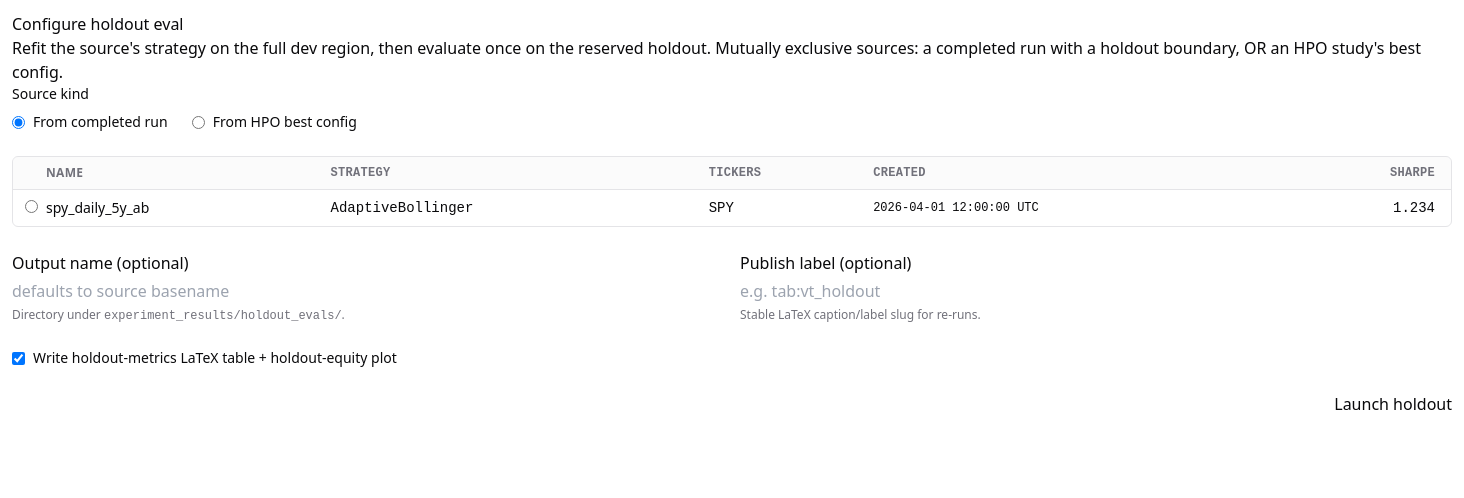
it: ConfigureHoldoutPage › blocks submit when no source is selected
Expected: the text "spy_daily_5y_ab" is shown, [45,190,330,226]
Click the button "Launch holdout": (1393, 404) [1334,392,1452,416]
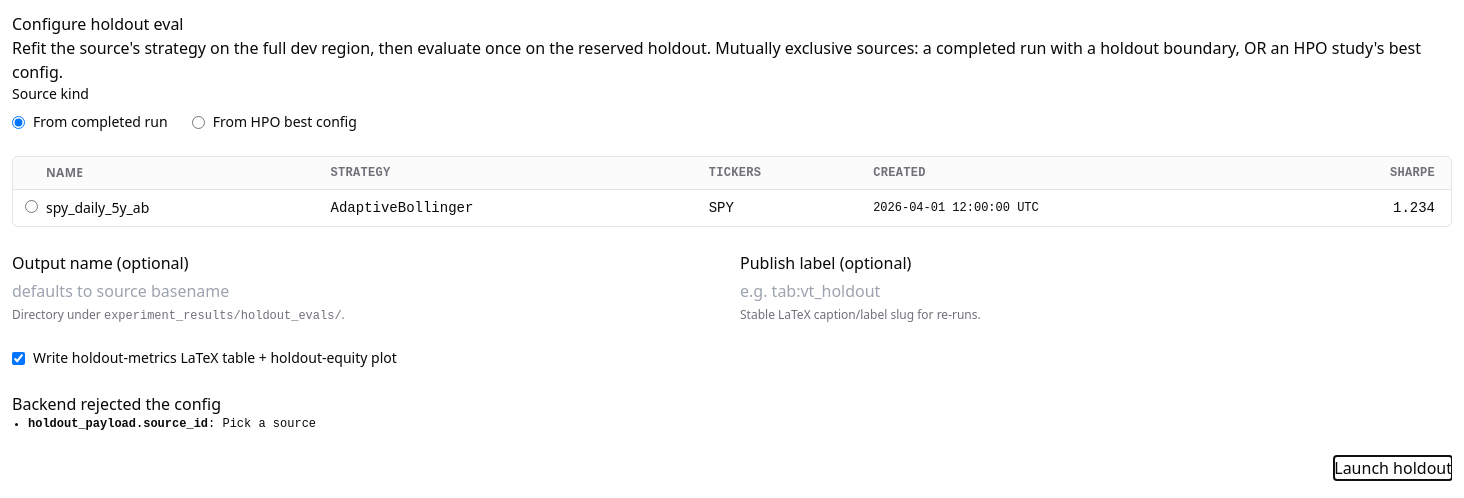
Result: the list item "holdout_payload.source_id: Pick a source" is shown at [28,417,316,431]
